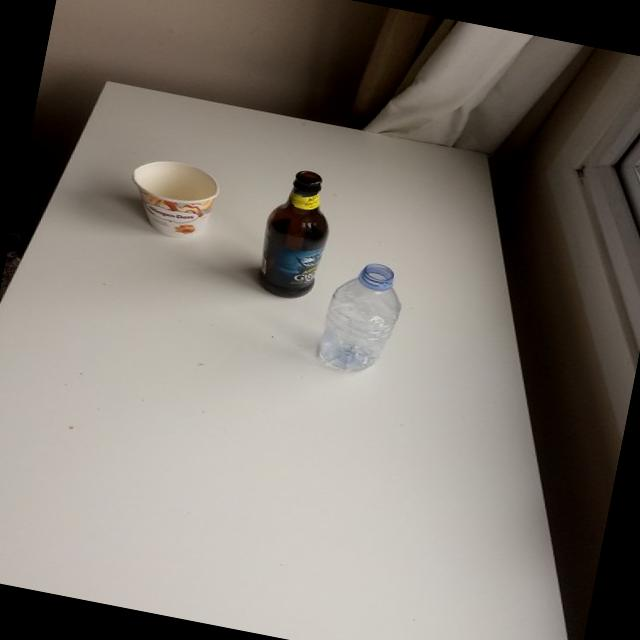Recycle: (256, 164, 341, 306), (314, 256, 410, 381), (123, 153, 225, 242)
